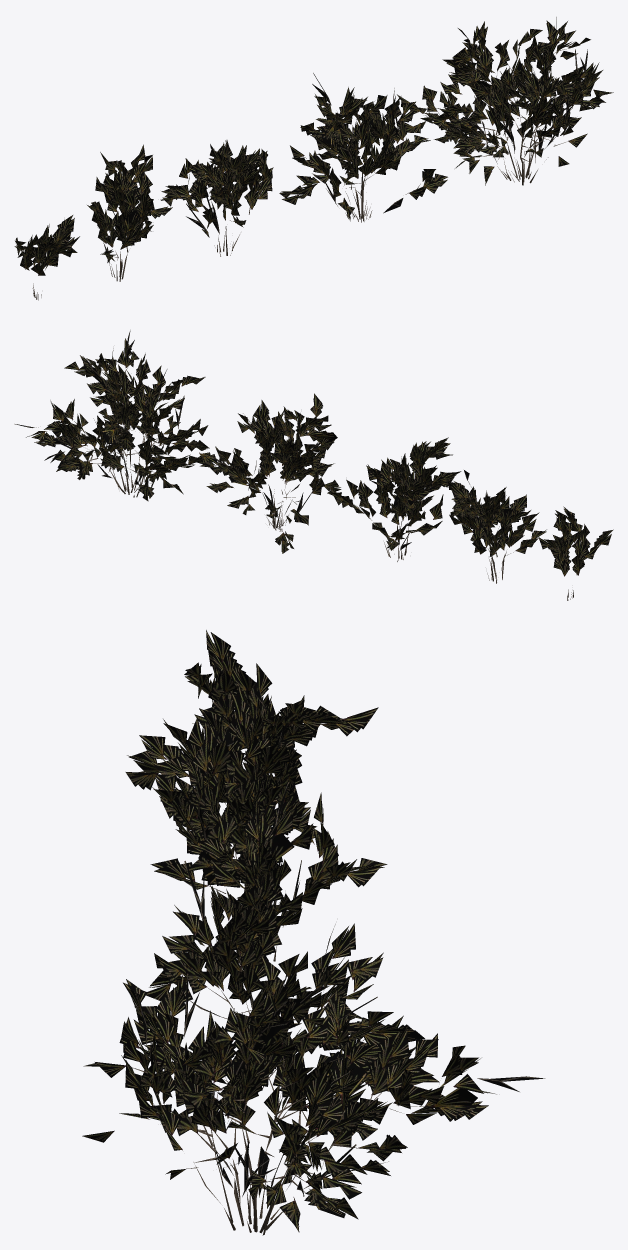
The model's file is m_wild_rooibos_bush.6c26a3289c.glb.
3 views of the same model, one above another, from view 1: azimuth 30°, elevation 25°; view 2: azimuth 150°, elevation 25°; view 3: azimuth 270°, elevation 25° (orthographic). The views are drawn at different scales.
Parts seen in each view (by area): view 1: wild_rooibos_bush_a; view 2: wild_rooibos_bush_a; view 3: wild_rooibos_bush_a.
Boxes of the visible parts, <box> form: wild_rooibos_bush_a: <box>14,17,613,300</box>; wild_rooibos_bush_a: <box>14,330,613,600</box>; wild_rooibos_bush_a: <box>82,630,545,1235</box>.
Bounding box in the file's own units: 2.27 × 0.533 × 0.8239.
2 materials, 2 textured.
